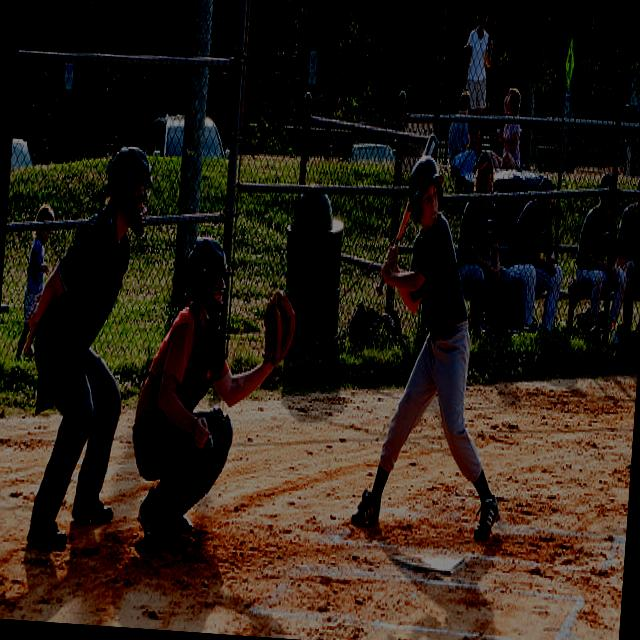Vehicle: (106, 106, 226, 160), (144, 109, 228, 160), (349, 140, 396, 162), (10, 137, 35, 173)
